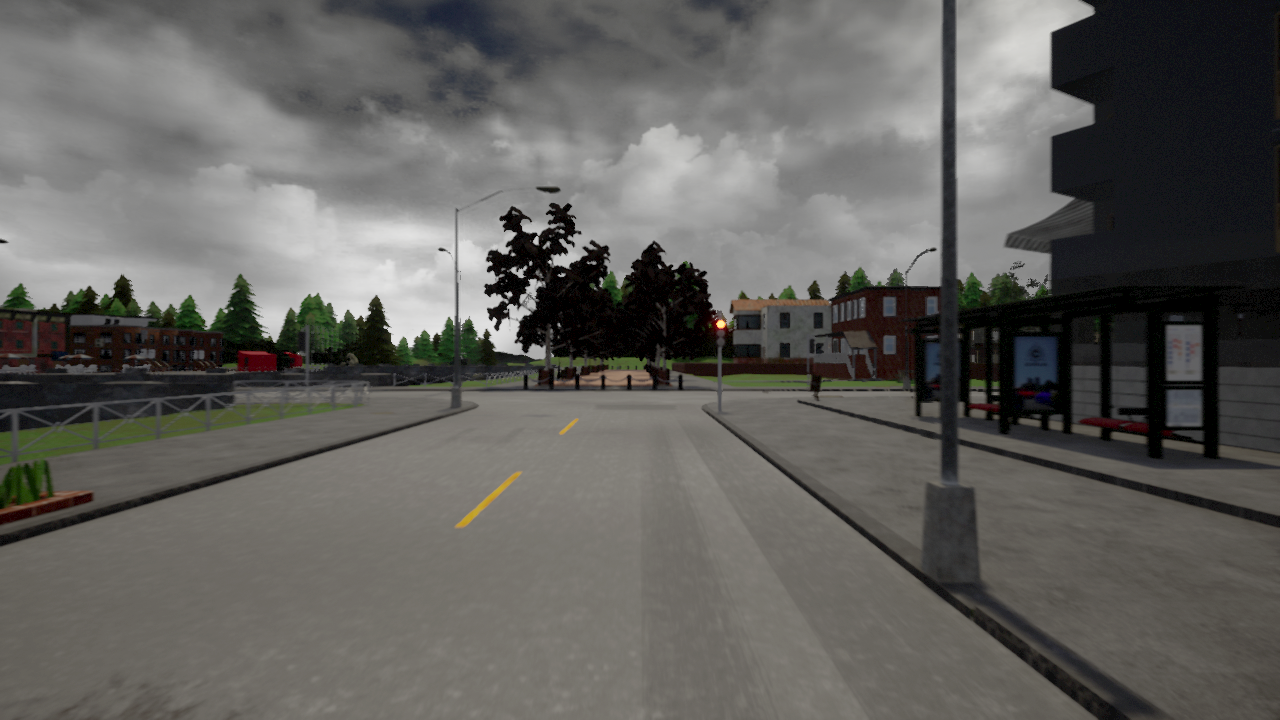red: (714, 318, 726, 348)
